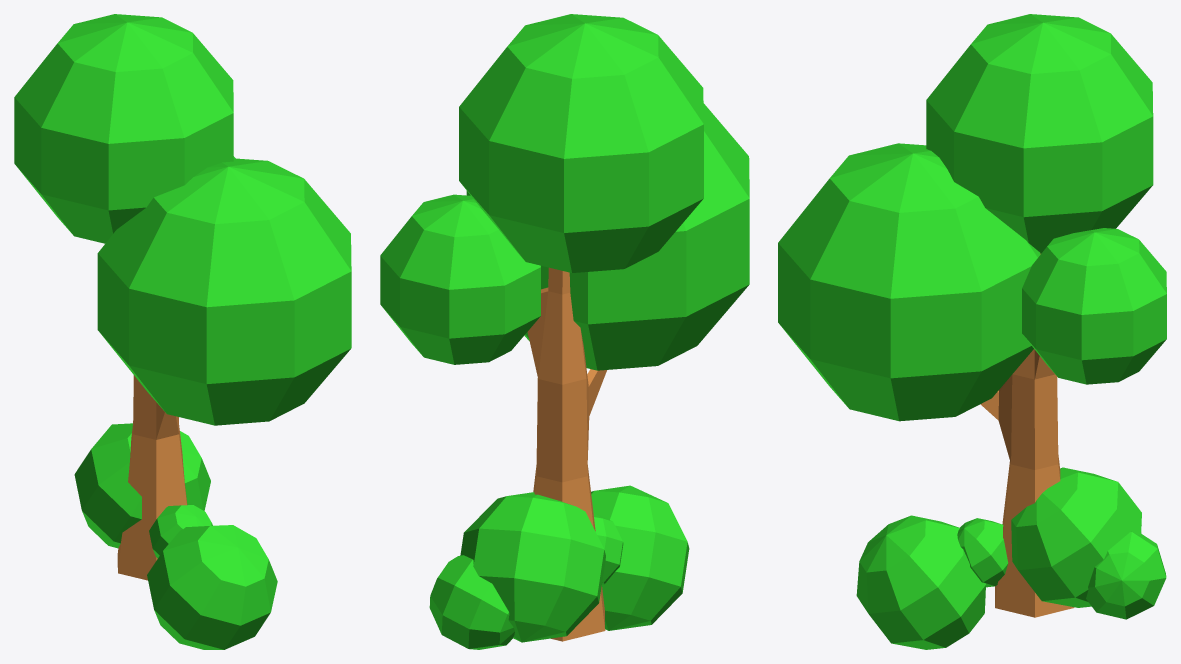
File: cartoon_tree.glb
3 views of the same model, side by side, from view 1: azimuth 30°, elevation 25°; view 2: azimuth 150°, elevation 25°; view 3: azimuth 270°, elevation 25° (orthographic). The views are drawn at different scales.
Parts seen in each view (by area): view 1: Cylinder.014; view 2: Cylinder.014; view 3: Cylinder.014.
Boxes of the visible parts, <box> form: Cylinder.014: <box>14,14,351,649</box>; Cylinder.014: <box>380,14,749,649</box>; Cylinder.014: <box>778,14,1166,649</box>.
Bounding box in the file's own units: 10.68 × 24.36 × 14.13.
